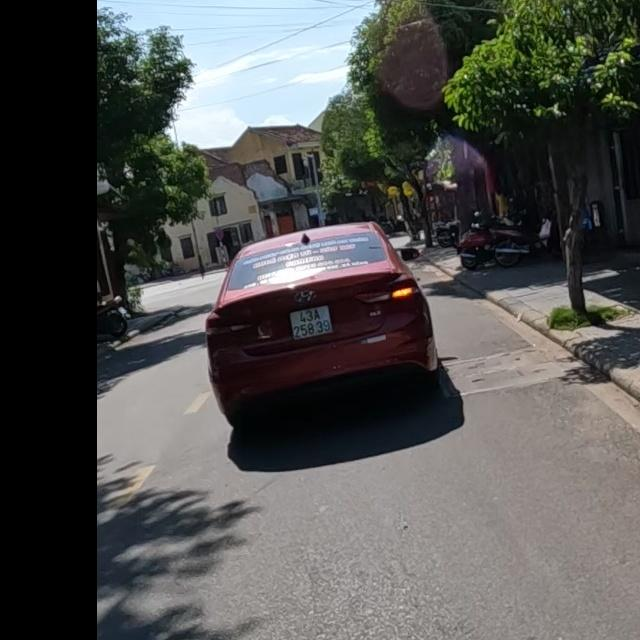license-plate: (288, 303, 334, 340)
